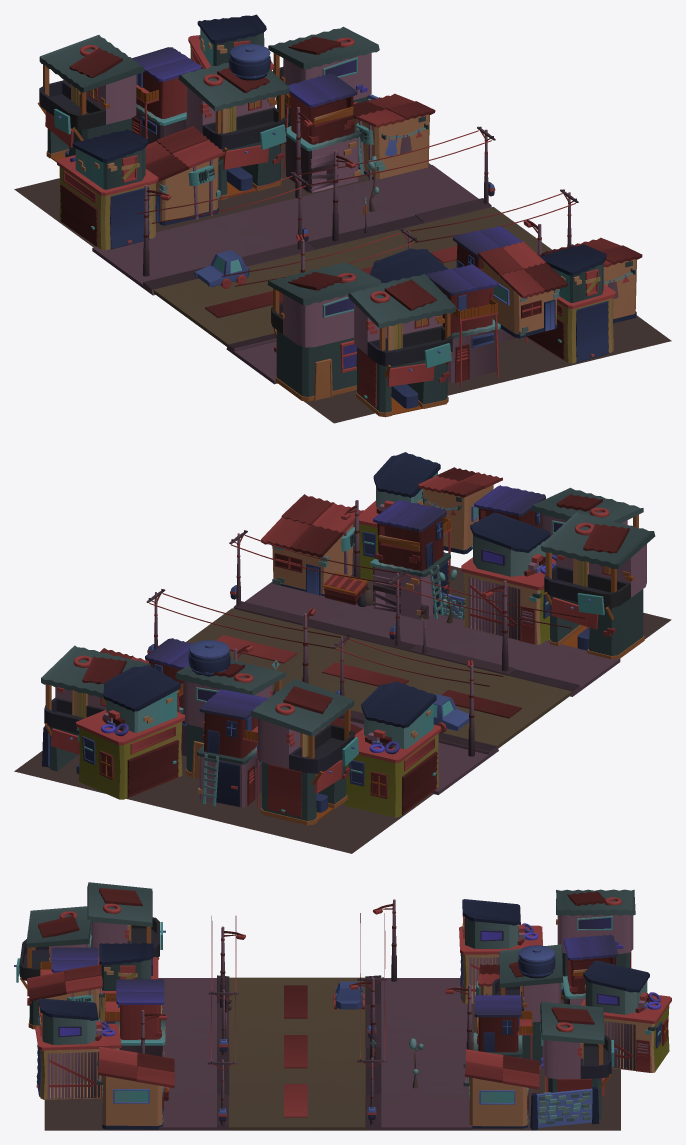
File: MODULOA.fbx
3 views of the same model, one above another, from view 1: azimuth 30°, elevation 25°; view 2: azimuth 150°, elevation 25°; view 3: azimuth 270°, elevation 25° (orthographic). The views are drawn at different scales.
Parts seen in each view (by area): view 1: MODULOA; view 2: MODULOA; view 3: MODULOA.
Boxes of the visible parts, bbox=[...] form: MODULOA: bbox=[14, 14, 671, 423]; MODULOA: bbox=[14, 452, 671, 853]; MODULOA: bbox=[14, 882, 671, 1130].
Bounding box in the file's own units: 2498 × 1003 × 4546.
